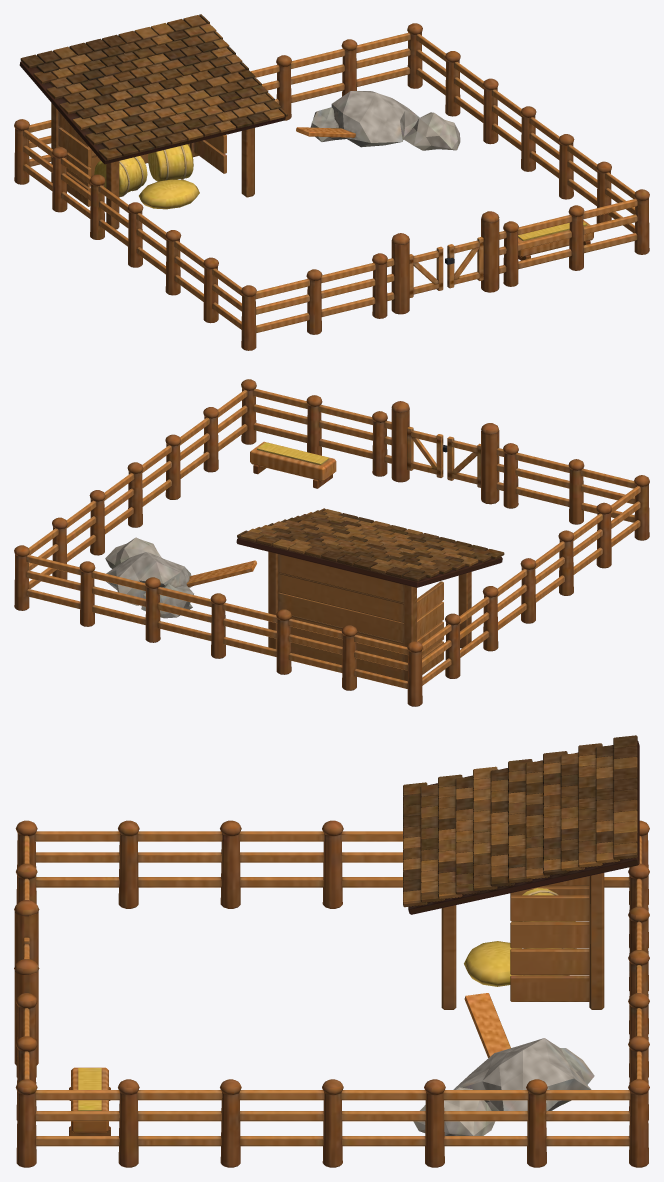
Rendered from pygmy_yard.glb.
3 views of the same model, one above another, from view 1: azimuth 30°, elevation 25°; view 2: azimuth 150°, elevation 25°; view 3: azimuth 270°, elevation 25° (orthographic). The views are drawn at different scales.
Visible parts, largest first — view 1: pygmy_yard, gate1, gate0; view 2: pygmy_yard, gate1, gate0; view 3: pygmy_yard.
Boxes of the visible parts, x1,y1,x2,y2 form: pygmy_yard: (14,14,649,350); gate1: (445,236,483,288); gate0: (409,246,443,297); pygmy_yard: (14,379,649,706); gate1: (407,426,447,477); gate0: (447,436,480,487); pygmy_yard: (14,735,649,1167).
Size of the model in its own units: 3 by 0.9345 by 3.01.
Materials: 1 (1 with a texture image).
